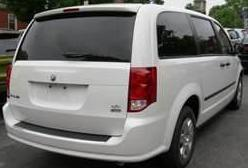back_view: (0, 60, 170, 154)
backlight: (117, 61, 161, 117)
side_glass: (198, 19, 238, 59)
